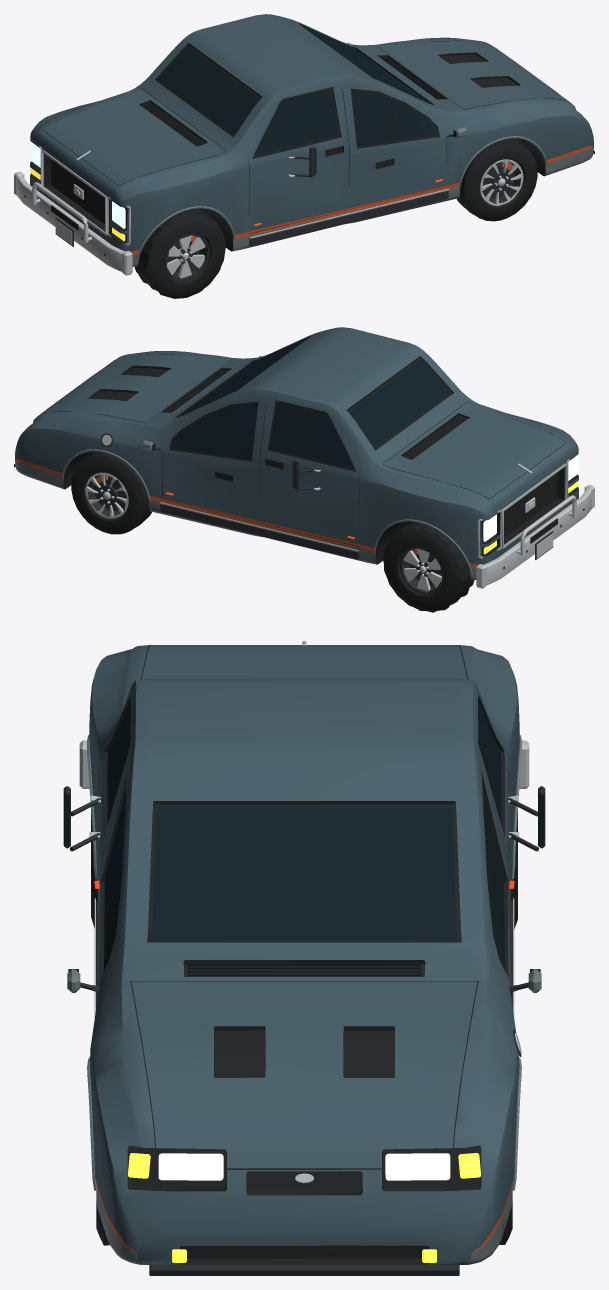
The model's file is deadbolt_hardsurface_LOD2.glb.
3 views of the same model, one above another, from view 1: azimuth 30°, elevation 25°; view 2: azimuth 150°, elevation 25°; view 3: azimuth 270°, elevation 25° (orthographic). The views are drawn at different scales.
Visible parts, largest first — view 1: Body_DeadboltShell.001, Detail_BrushedMetal, Wheel_Truck_Tire_-1.001, Glass_TruckWindshield.001, Wheel_Coupe_Tire_-1.001, Glass_TruckSide_R.001, Glass_CoupeSide_R.001, Detail_Gunmetal, Glass_CoupeWindshield.001, Detail_Grille, Detail_Secondary, Wheel_Coupe_Hub_-1.001 (+4 smaller); view 2: Body_DeadboltShell.001, Detail_BrushedMetal, Wheel_Truck_Tire_+1.001, Glass_TruckWindshield.001, Wheel_Coupe_Tire_+1.001, Glass_TruckSide_L.001, Glass_CoupeSide_L.001, Detail_Gunmetal, Glass_CoupeWindshield.001, Detail_Grille, Detail_Secondary, Wheel_Coupe_Hub_+1.001 (+4 smaller); view 3: Body_DeadboltShell.001, Glass_CoupeWindshield.001, Detail_Headlight, Detail_Gunmetal, Detail_Grille, Detail_Secondary, Detail_Rubber, Glass_CoupeSide_L.001, Glass_CoupeSide_R.001, Detail_BrushedMetal, Detail_Amber, Glass_TruckSide_L.001 (+1 smaller).
Part boxes in pixels (x1,y1,x2,y2): Body_DeadboltShell.001: (30,14,593,266); Detail_BrushedMetal: (14,146,448,275); Wheel_Truck_Tire_-1.001: (134,208,225,298); Glass_TruckWindshield.001: (158,46,259,135); Wheel_Coupe_Tire_-1.001: (457,138,537,221); Glass_TruckSide_R.001: (254,89,338,155); Glass_CoupeSide_R.001: (352,90,436,145); Detail_Gunmetal: (24,134,593,256); Glass_CoupeWindshield.001: (302,26,430,103); Detail_Grille: (141,57,445,146); Detail_Secondary: (136,42,547,260); Wheel_Coupe_Hub_-1.001: (482,162,514,197); Body_DeadboltShell.001: (15,327,578,579); Detail_BrushedMetal: (102,435,594,588); Wheel_Truck_Tire_+1.001: (383,521,474,612); Glass_TruckWindshield.001: (349,360,451,448); Wheel_Coupe_Tire_+1.001: (71,451,151,534); Glass_TruckSide_L.001: (270,402,353,468); Glass_CoupeSide_L.001: (172,403,256,459); Detail_Gunmetal: (100,433,584,569); Glass_CoupeWindshield.001: (178,339,307,417); Detail_Grille: (163,370,465,459); Detail_Secondary: (61,356,472,573); Wheel_Coupe_Hub_+1.001: (94,475,126,511); Body_DeadboltShell.001: (89,645,519,1264); Glass_CoupeWindshield.001: (151,807,457,941); Detail_Headlight: (158,1153,450,1180); Detail_Gunmetal: (63,786,545,1269); Detail_Grille: (188,963,420,975); Detail_Secondary: (67,735,541,1190); Detail_Rubber: (149,1269,459,1275); Glass_CoupeSide_L.001: (482,788,504,969); Glass_CoupeSide_R.001: (104,788,126,969); Detail_BrushedMetal: (79,641,529,1183); Detail_Amber: (128,1153,480,1262); Glass_TruckSide_L.001: (478,701,501,824).
Size of the model in its own units: 5.33 by 1.8 by 2.23.
